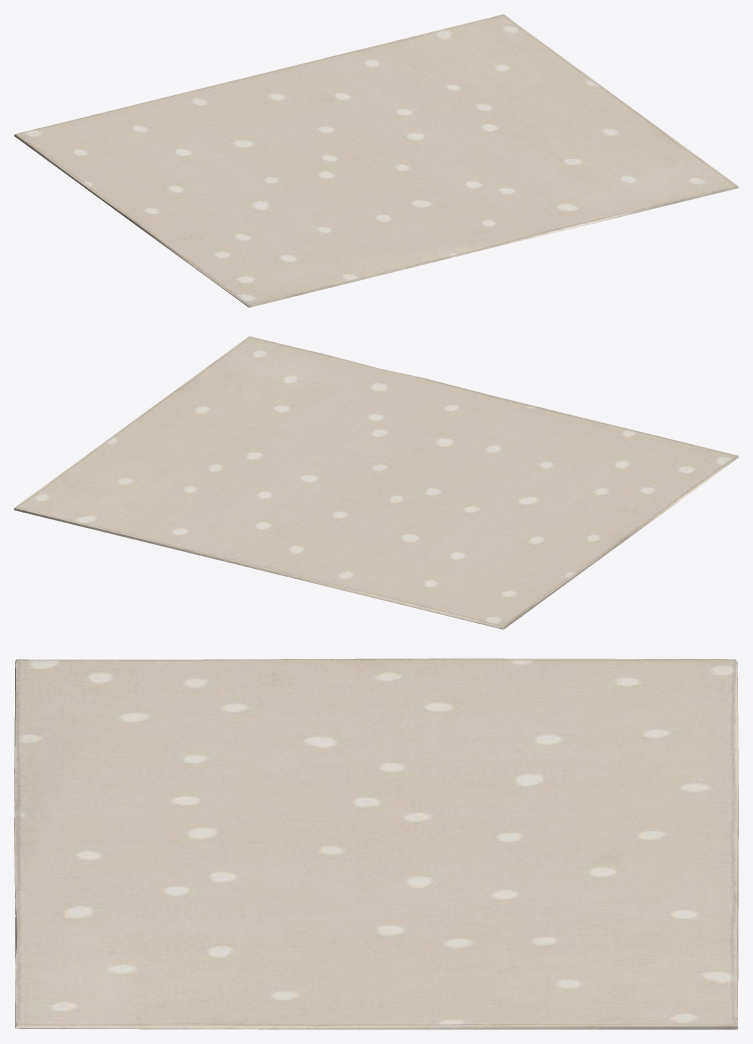
The model's file is 05 - LEN Rug, low pile - beigedot pattern 133x160 cm.glb.
3 renders of one model, top to bottom at view 1: azimuth 30°, elevation 25°; view 2: azimuth 150°, elevation 25°; view 3: azimuth 270°, elevation 25°, orthographic. The views are drawn at different scales.
Parts seen in each view (by area): view 1: ASY_ART_40625109_S01_NV01; view 2: ASY_ART_40625109_S01_NV01; view 3: ASY_ART_40625109_S01_NV01.
Part boxes in pixels (x1=…): ASY_ART_40625109_S01_NV01: x1=14, y1=14, x2=738, y2=307; ASY_ART_40625109_S01_NV01: x1=14, y1=336, x2=738, y2=629; ASY_ART_40625109_S01_NV01: x1=14, y1=658, x2=738, y2=1029.
Size of the model in its own units: 1.6 by 0.00964 by 1.33.
Materials: 1 (1 with a texture image).
